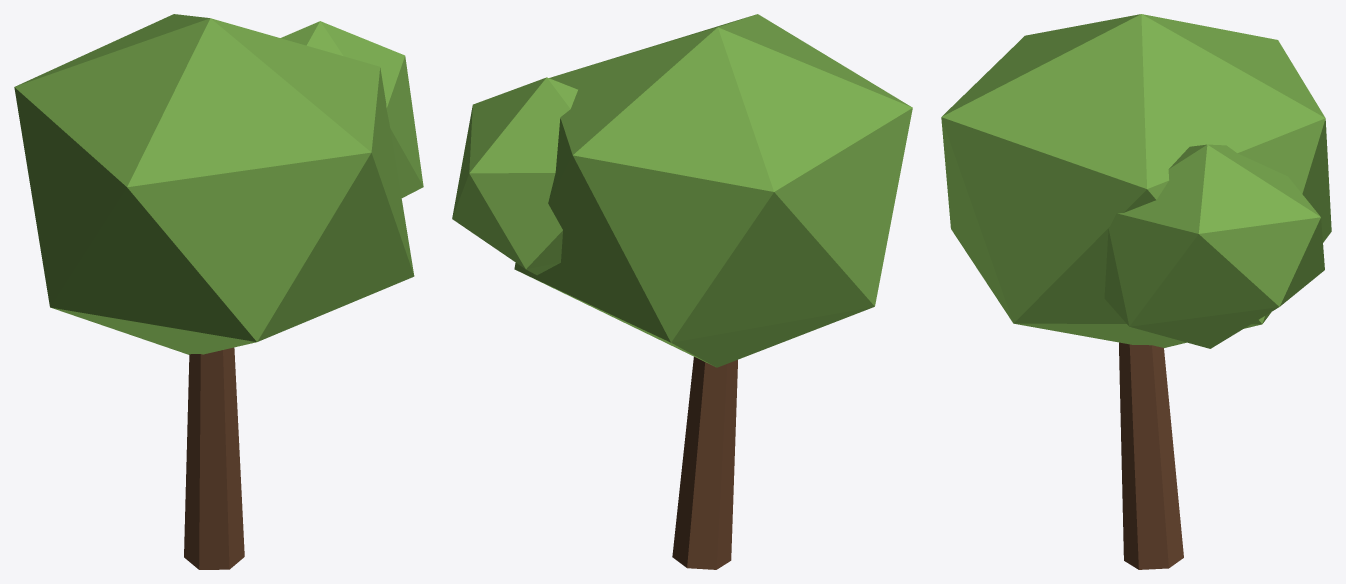
The model's file is Round_C.glb.
3 views of the same model, side by side, from view 1: azimuth 30°, elevation 25°; view 2: azimuth 150°, elevation 25°; view 3: azimuth 270°, elevation 25° (orthographic). The views are drawn at different scales.
Visible parts, largest first — view 1: Round_C; view 2: Round_C; view 3: Round_C.
Boxes of the visible parts, x1,y1,x2,y2 form: Round_C: [14, 14, 423, 569]; Round_C: [452, 14, 912, 569]; Round_C: [941, 14, 1331, 569].
Size of the model in its own units: 3.51 by 4.77 by 3.11.
